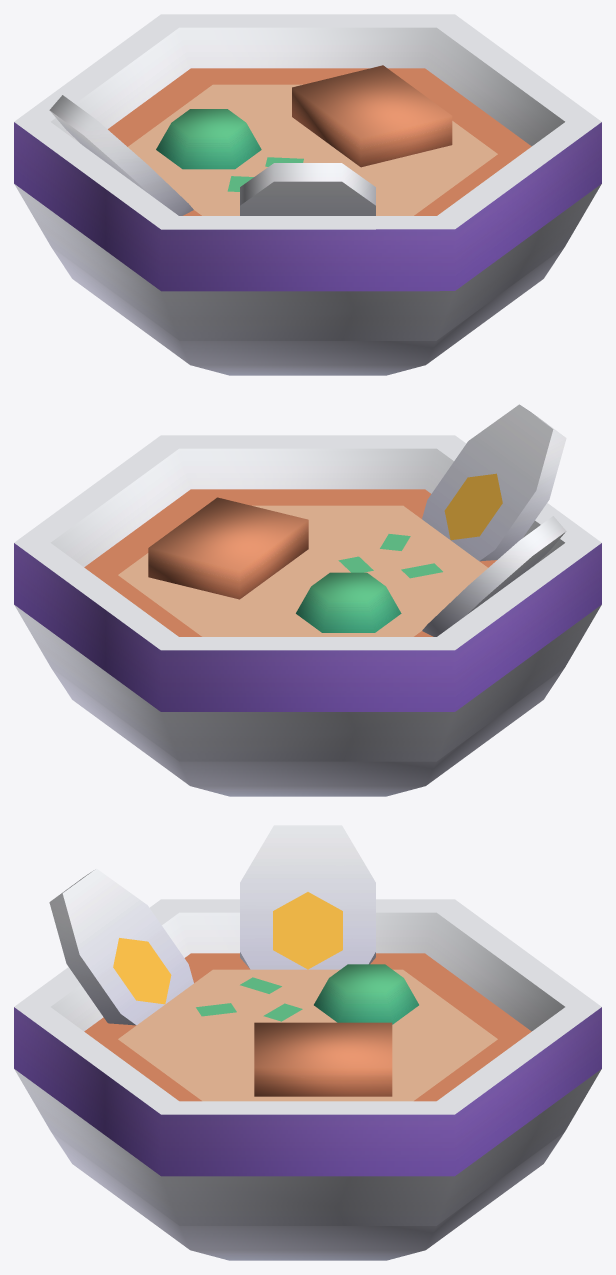
Rendered from kenney-food-bowl-broth.glb.
The picture shows the model from 3 angles, top to bottom: view 1: azimuth 30°, elevation 25°; view 2: azimuth 150°, elevation 25°; view 3: azimuth 270°, elevation 25°; orthographic projection.
Visible parts, largest first — view 1: bowl-broth; view 2: bowl-broth; view 3: bowl-broth.
Part boxes in pixels (bbox=[...]): bowl-broth: bbox=[14, 14, 601, 375]; bowl-broth: bbox=[14, 404, 601, 796]; bowl-broth: bbox=[14, 825, 601, 1260].
Bounding box in the file's own units: 0.5262 × 0.2903 × 0.5798.
Materials: 1 (1 with a texture image).
